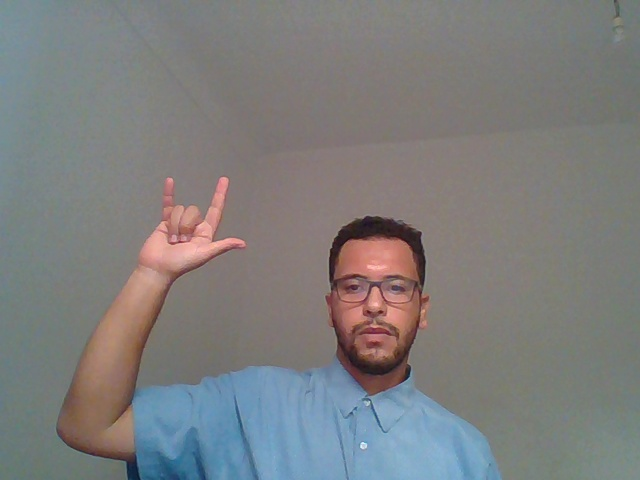iloveyou: (87, 116, 272, 403)
